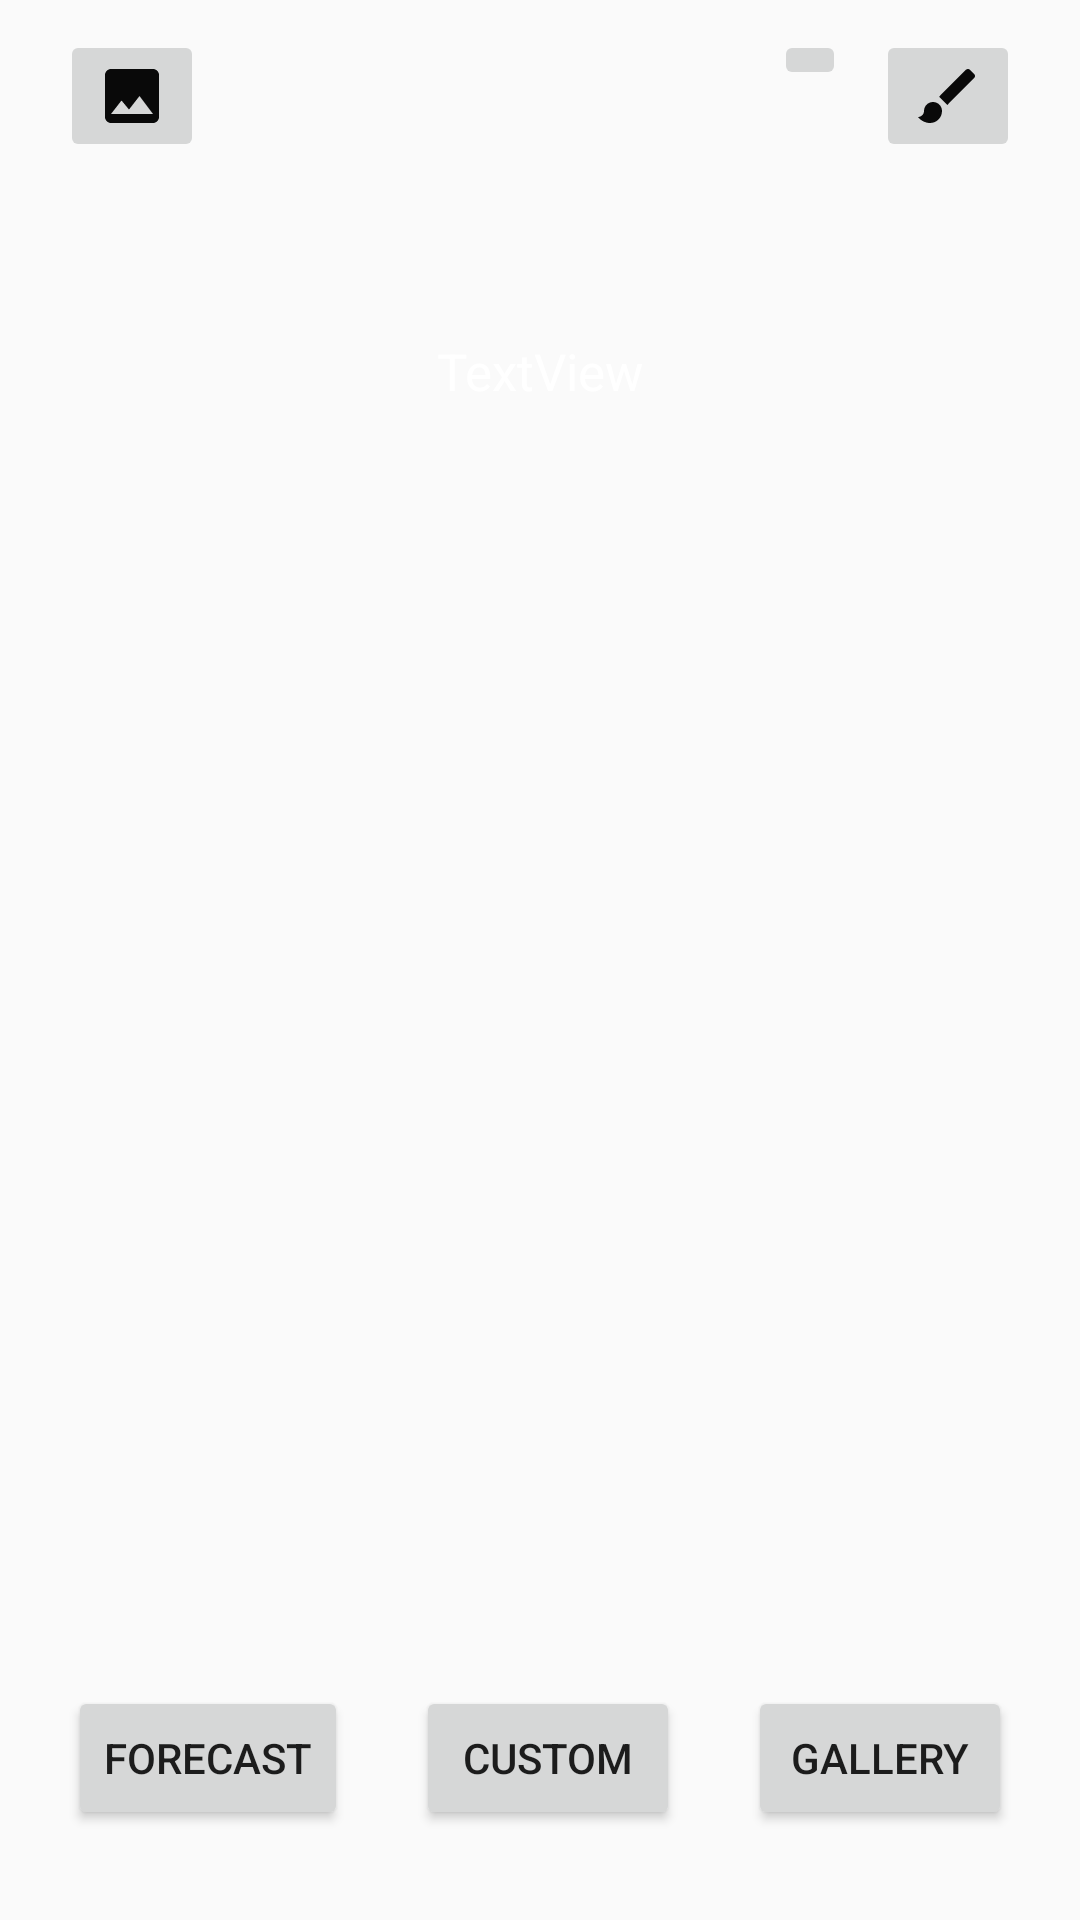

Where icons sit on this 1080 x 1920 app screen, as (x1, y1, x2, y2):
brush: (888, 48, 1008, 144)
insert photo: (72, 48, 192, 144)
